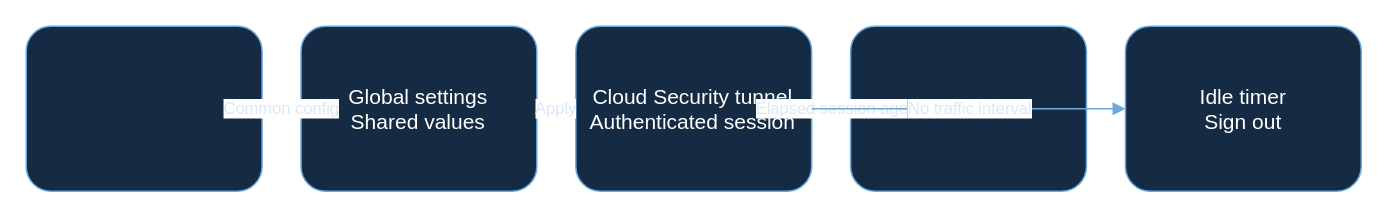
The diagram is 1388 pixels wide and 218 high, and some of its shapes have lost their labels. The box of each missing label's shape, as (x1, y1, x2, y2) in pixels:
Age timer Reauthenticate: (849, 25, 1086, 191)
Endpoint profiles Default + custom: (25, 25, 262, 191)
